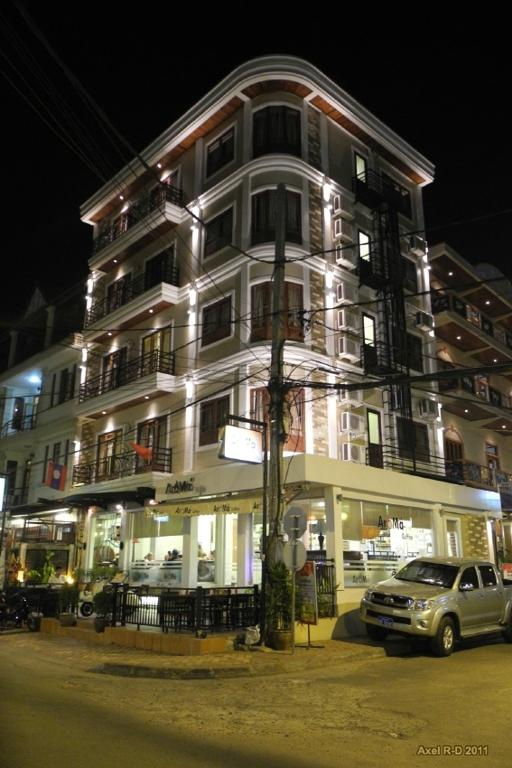non-vehicle: (78, 583, 141, 616), (0, 592, 40, 630)
